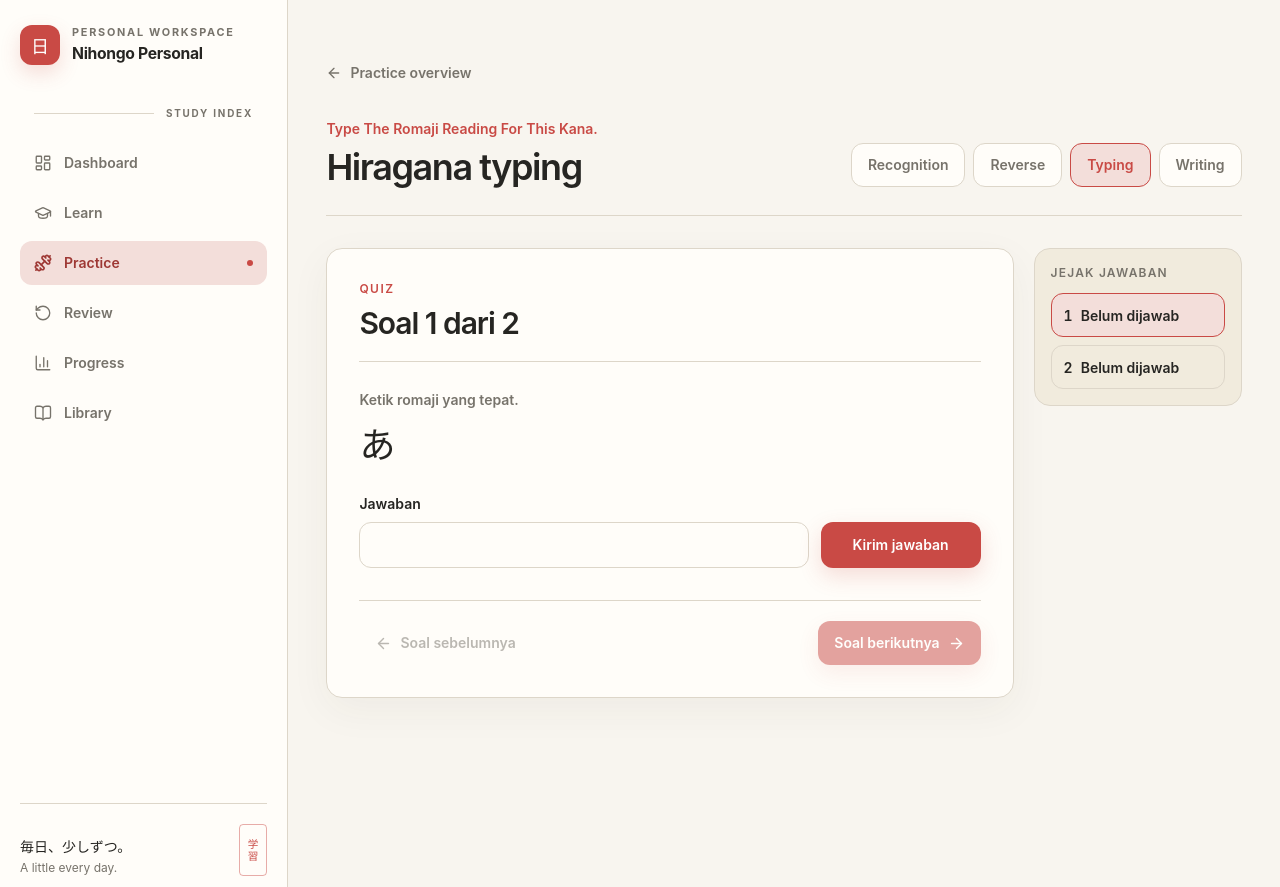
Scenario: Kana practice › completes a deterministic Kana session and restarts with replacement questions
Type "a" into the field labelled "Jawaban" at (584, 545), box [359,522,809,568]
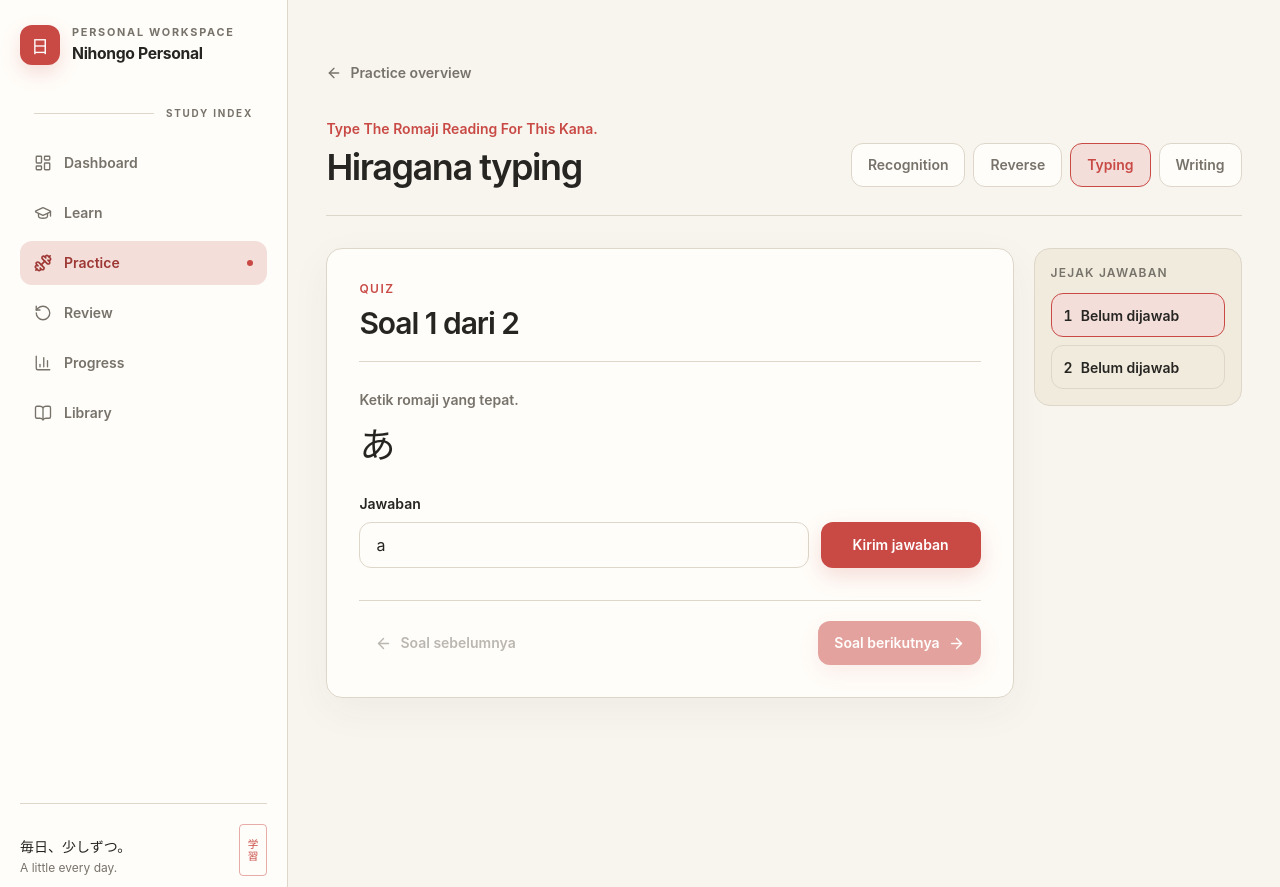
Click the button "Kirim jawaban" at (901, 545), box [821,522,981,568]
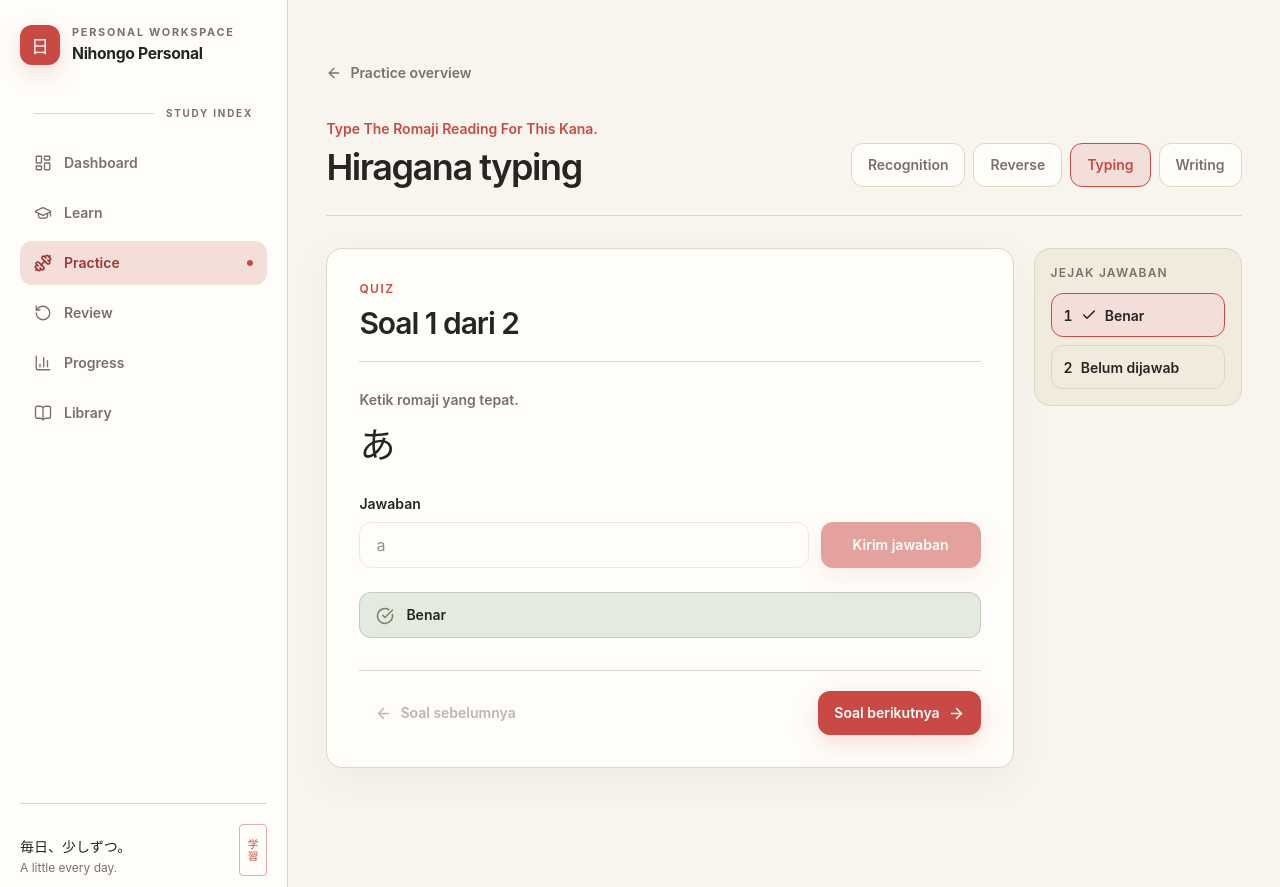
Click the button "Soal berikutnya" at (899, 713), box [818,691,981,735]
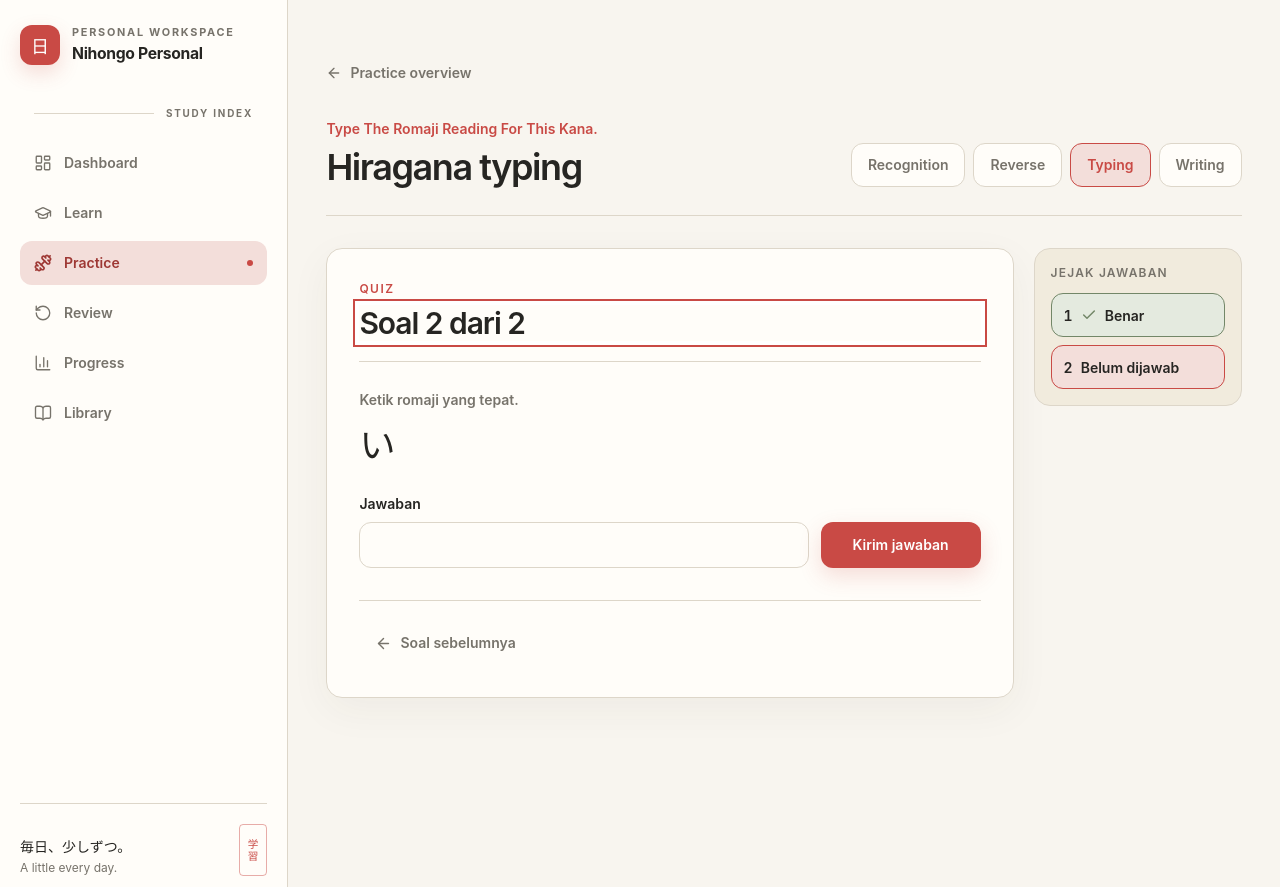
Type "i" into the field labelled "Jawaban" at (584, 545), box [359,522,809,568]
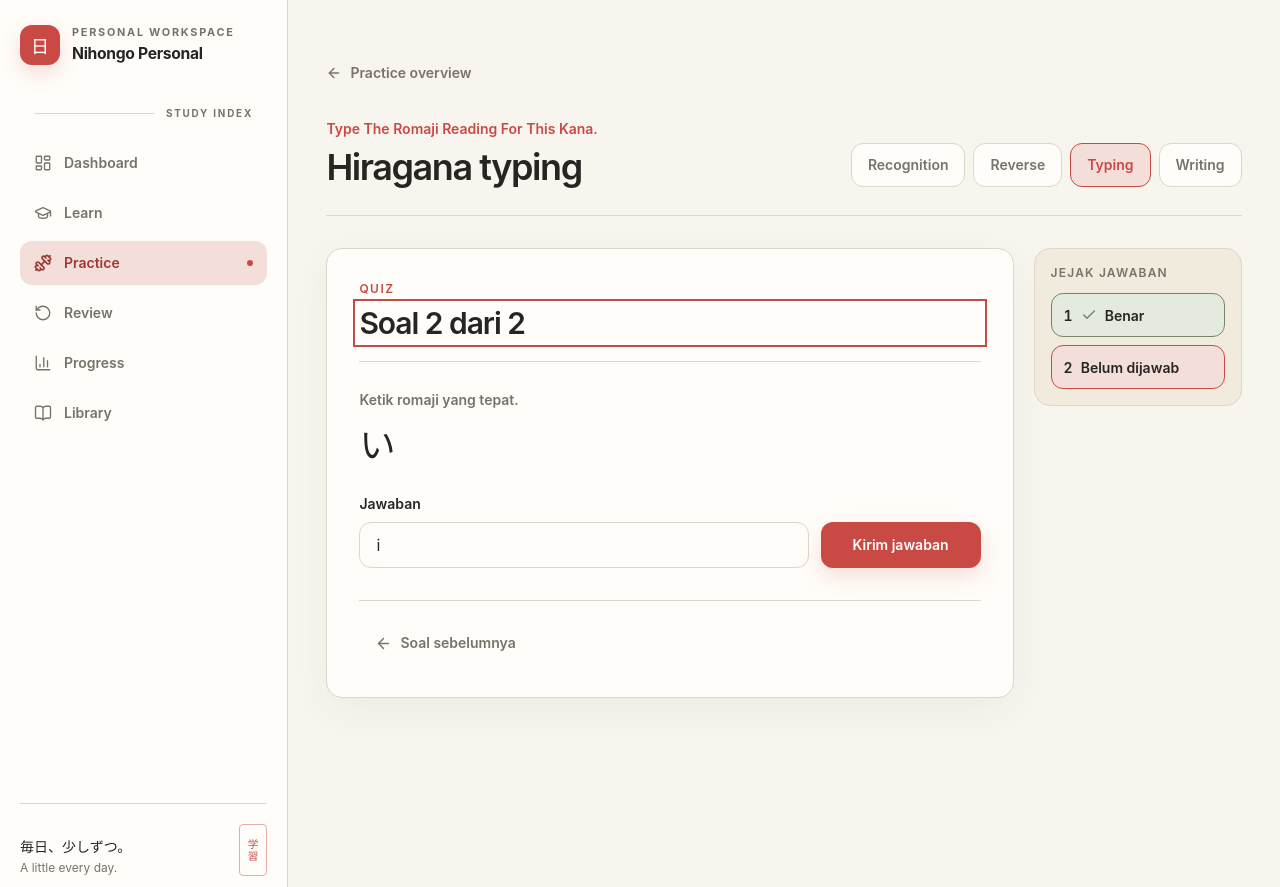
Click the button "Kirim jawaban" at (901, 545), box [821,522,981,568]
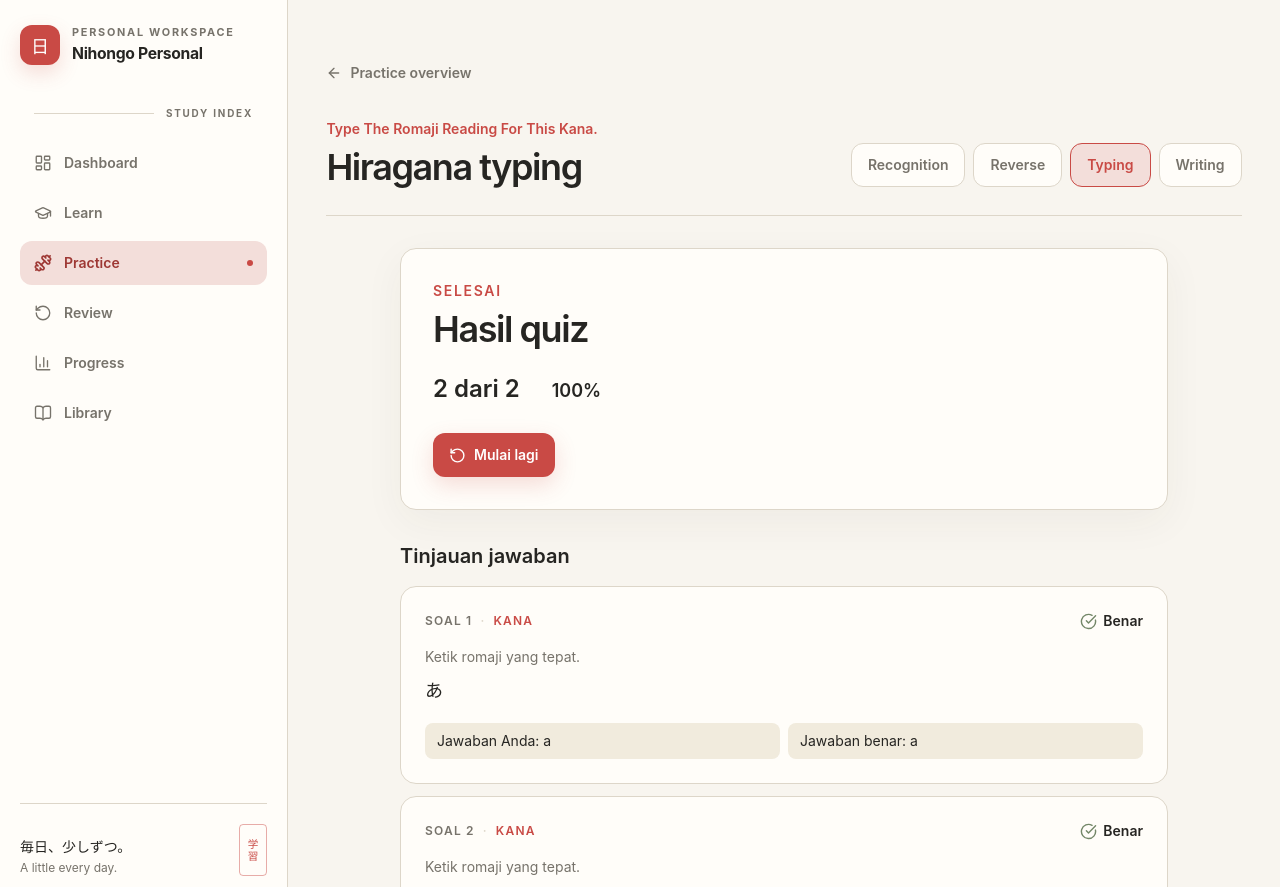
Check: the text "2 dari 2" is shown, box [433,373,520,405]
Check: the heading "Hasil quiz" is shown, box [433,307,588,351]
Click the button "Mulai lagi" at (494, 455), box [433,433,554,477]
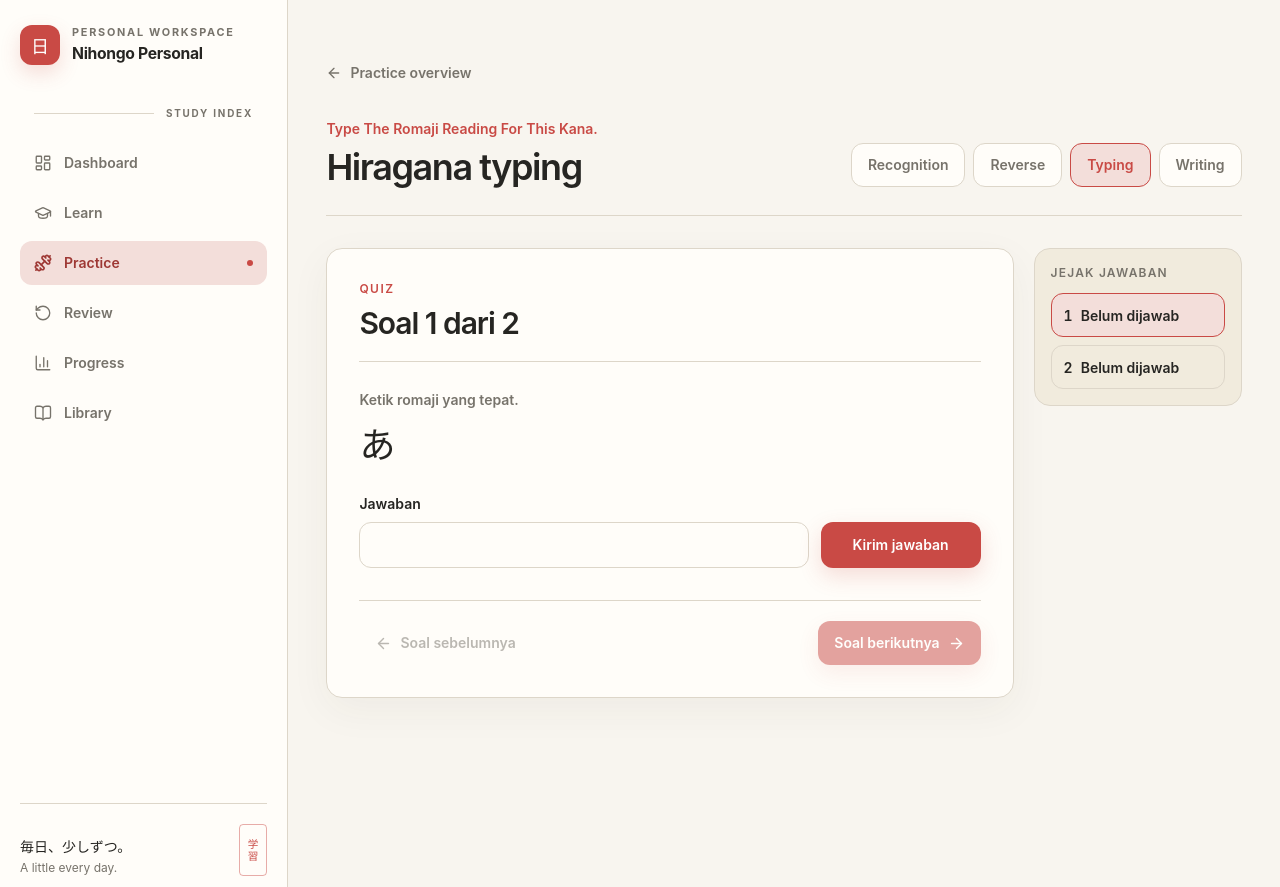
Check: the heading "Soal 1 dari 2" is shown, box [359,305,519,341]
